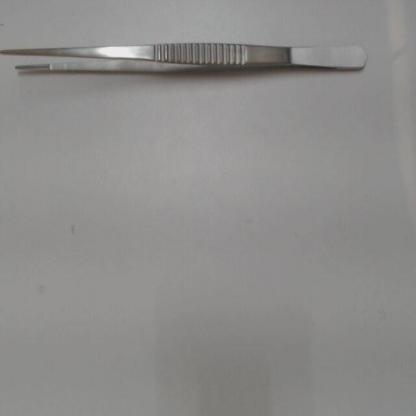DeBakey Dissector: (2, 29, 382, 98)
